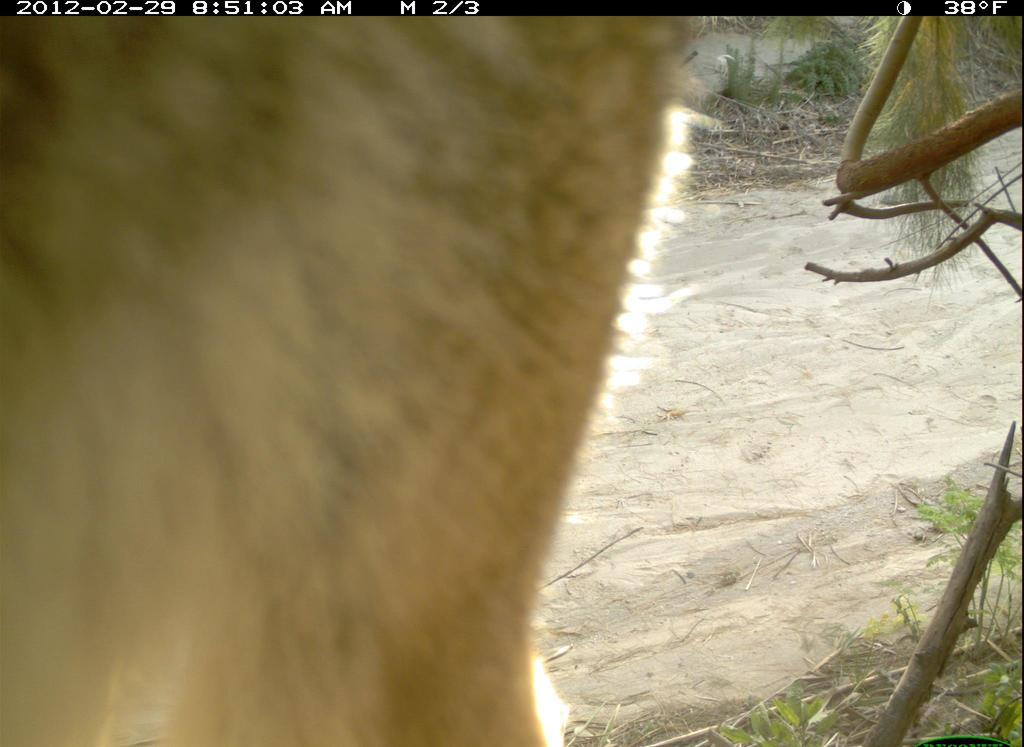coyote: (2, 11, 729, 740)
